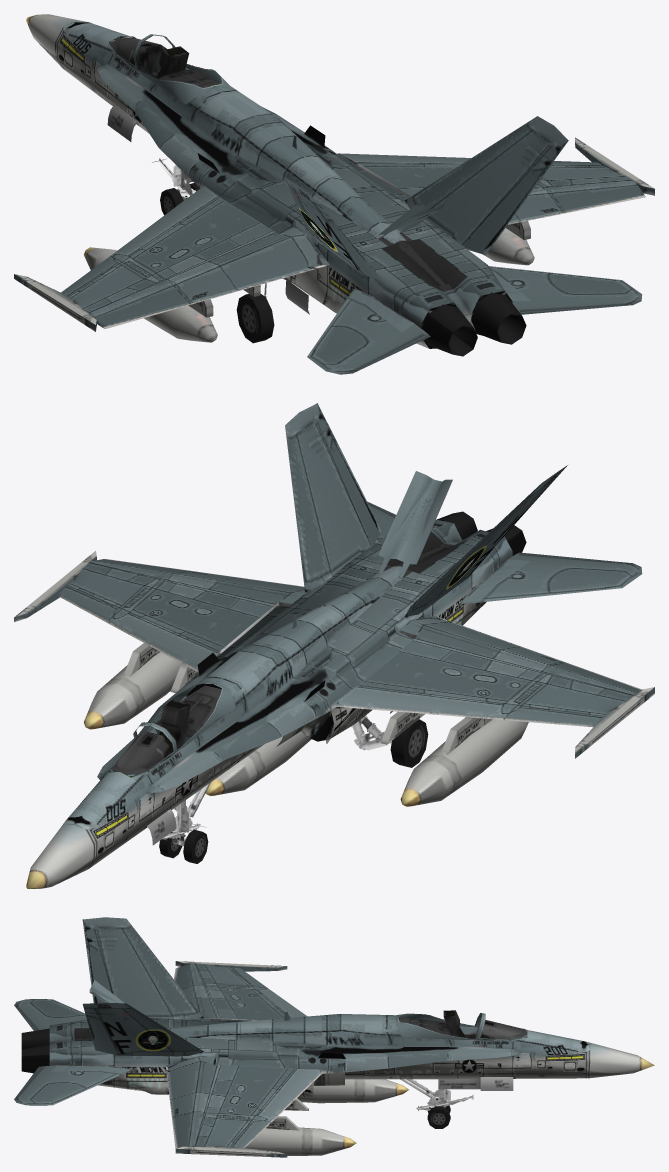
3 views of the same model, one above another, from view 1: azimuth 30°, elevation 25°; view 2: azimuth 150°, elevation 25°; view 3: azimuth 270°, elevation 25° (orthographic). The views are drawn at different scales.
Visible parts, largest first — view 1: 3dxy; view 2: 3dxy; view 3: 3dxy.
Boxes of the visible parts, x1,y1,x2,y2 form: 3dxy: (14,14,654,374); 3dxy: (14,403,654,888); 3dxy: (14,917,654,1157).
Size of the model in its own units: 473 by 191 by 680.
